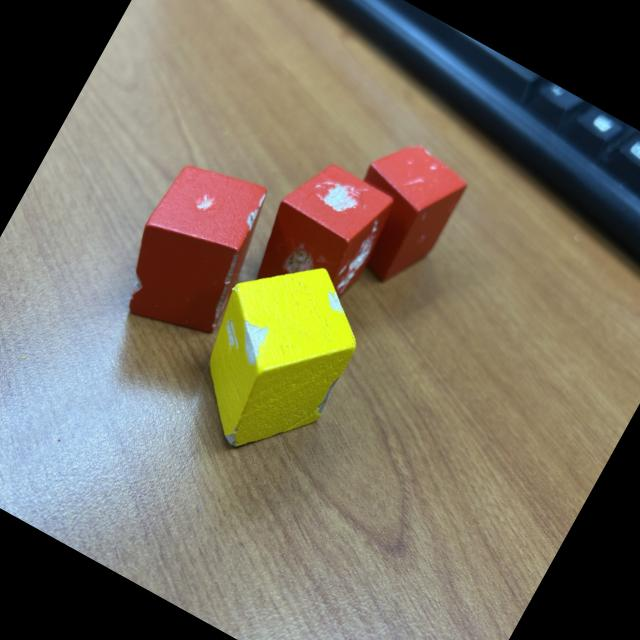broken: (163, 234, 385, 480), (102, 144, 288, 354), (242, 150, 402, 323), (322, 128, 474, 299)
